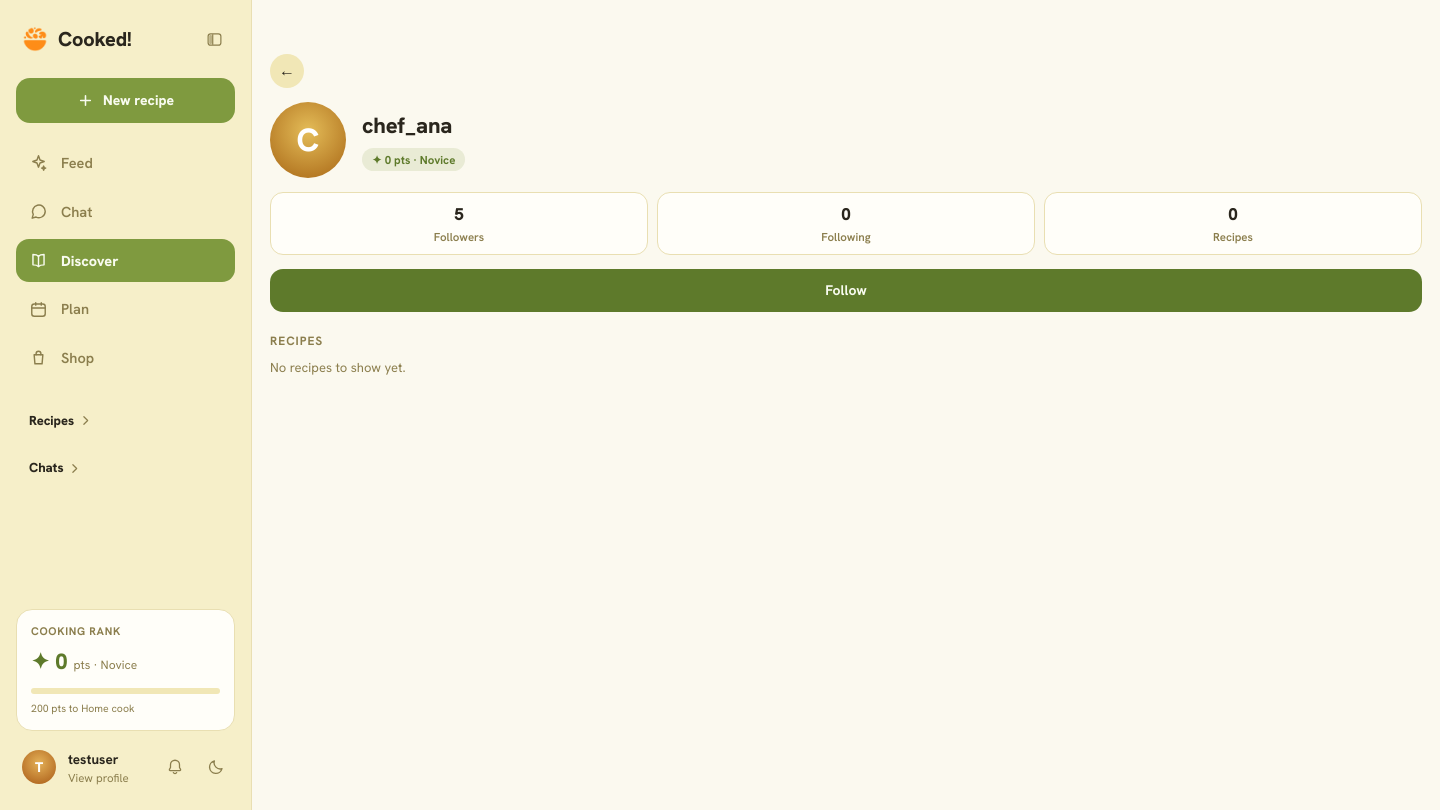
Test case: UserProfilePage › follows and unfollows optimistically, bumping the follower count
Click the button "Follow" at x=846, y=290, box left=270, top=269, right=1422, bottom=312
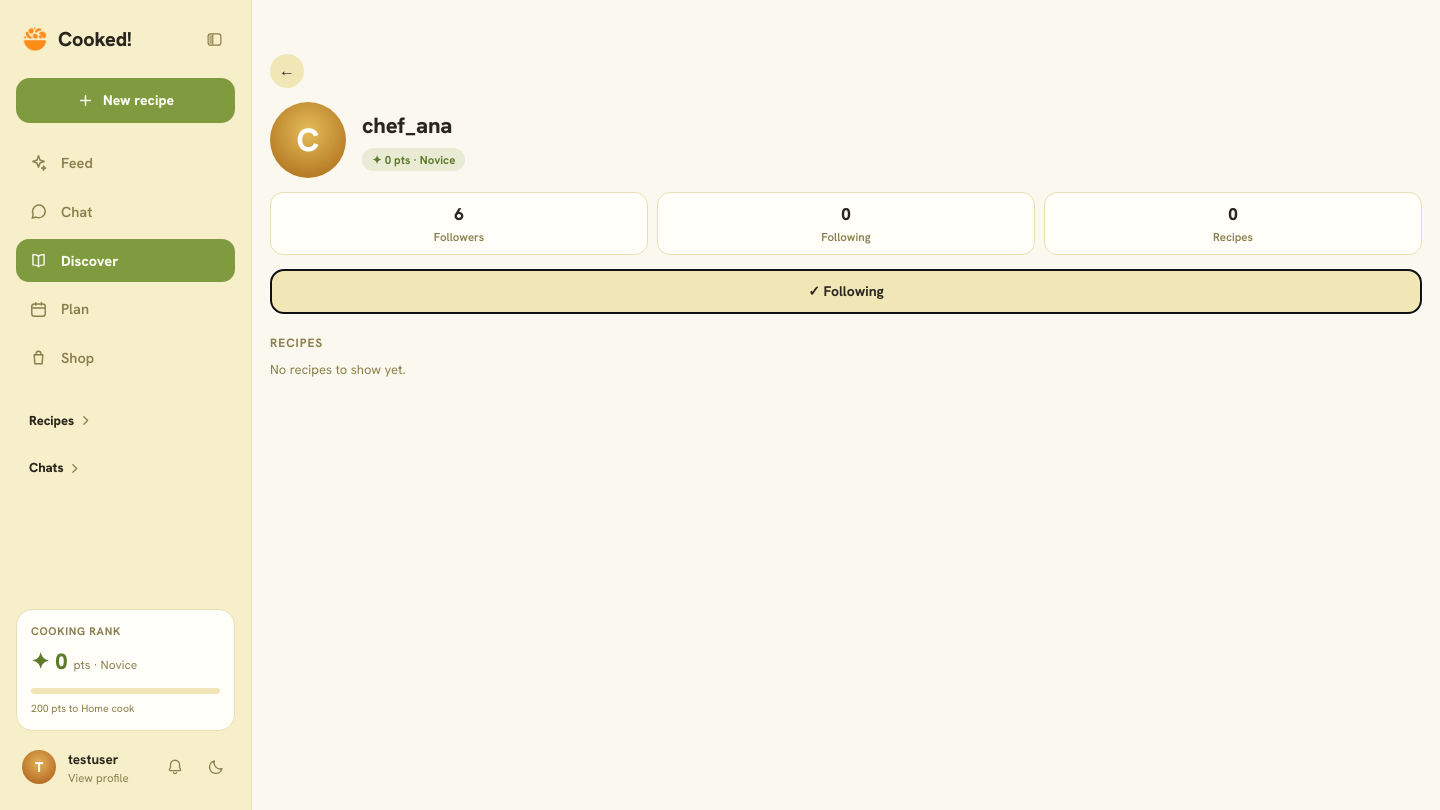
Result: the text "6" is shown at left=454, top=203, right=464, bottom=225
Click the button "✓ Following" at x=846, y=291, box left=270, top=269, right=1422, bottom=314
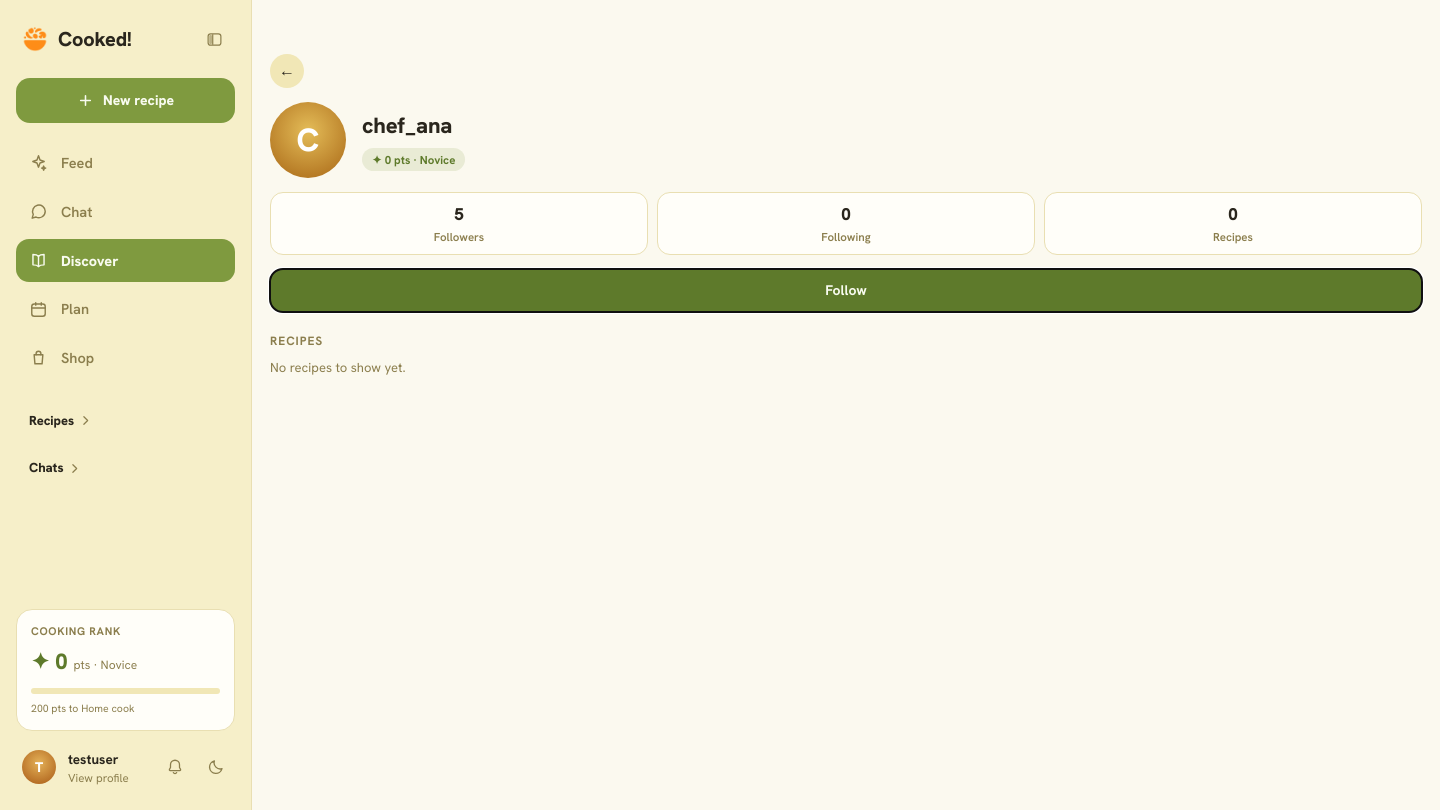
Result: the text "5" is shown at left=454, top=203, right=464, bottom=225
